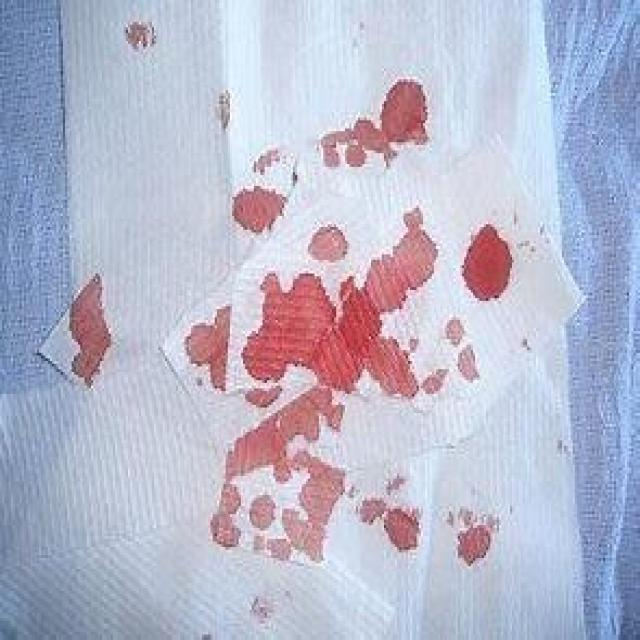wound: (173, 210, 548, 416), (168, 422, 534, 582), (178, 62, 462, 226), (36, 267, 154, 393)
